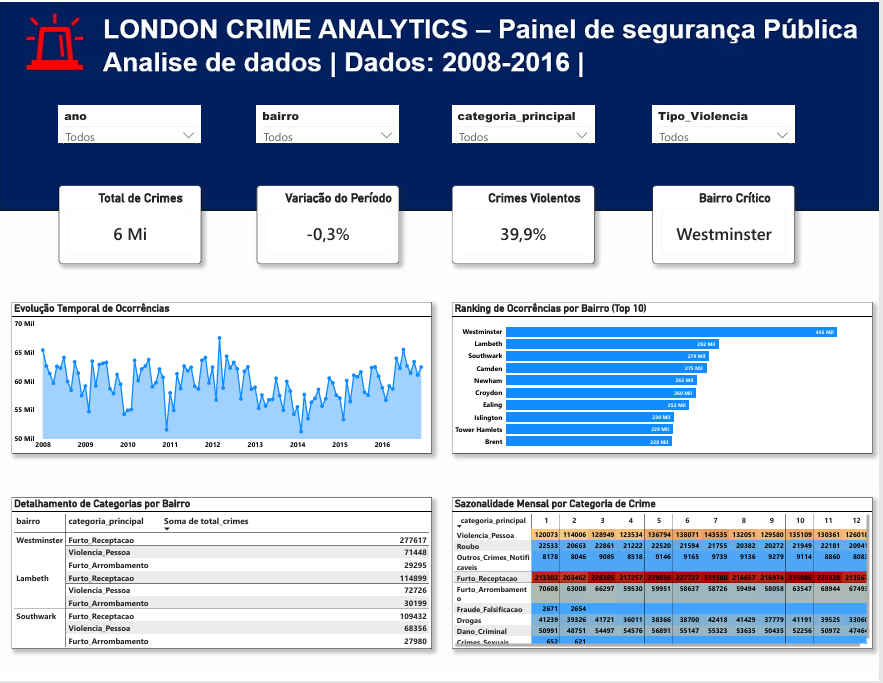

Layout of this report page (visuals, bound fields, positions):
{"tool":"powerbi","page":{"name":"Visão Geral","canvas":[2090,1600],"ordinal":0},"visuals":[{"type":"slicer","fields":{"Values":["ready.ano"]},"box":[142.5,245,337.5,90],"z":0},{"type":"slicer","fields":{"Values":["ready.bairro"]},"box":[612.5,245,337.5,90],"z":1000},{"type":"slicer","fields":{"Values":["ready.categoria_principal"]},"box":[1075,245,337.5,90],"z":2000},{"type":"slicer","fields":{"Values":["ready.Tipo_Violencia"]},"box":[1552.5,245,337.5,90],"z":3000},{"type":"lineChart","title":"Evolução Temporal de Ocorrências","fields":{"Category":["ready.data_crime.Variation.Hierarquia de datas.Ano","ready.data_crime.Variation.Hierarquia de datas.Mês"],"Y":["Sum(ready.total_crimes)"]},"box":[30,712.5,997.5,360],"z":4000},{"type":"barChart","title":"Ranking de Ocorrências por Bairro (Top 10)","fields":{"Y":["Sum(ready.total_crimes)"],"Category":["ready.bairro"]},"box":[1075,712.5,997.5,360],"z":5000},{"type":"pivotTable","title":"Detalhamento de Categorias por Bairro","fields":{"Rows":["ready.bairro","ready.categoria_principal"],"Values":["Sum(ready.total_crimes)"]},"box":[30,1175,997.5,360],"z":6000},{"type":"pivotTable","title":"Sazonalidade Mensal por Categoria de Crime","fields":{"Columns":["ready.mes"],"Rows":["ready.categoria_principal"],"Values":["Sum(ready.total_crimes)"]},"box":[1075,1175,997.5,360],"z":7000},{"type":"cardVisual","title":"📊 Total de Crimes","fields":{"Data":["Sum(ready.total_crimes)"]},"box":[142.5,435,337.5,185],"z":8000},{"type":"cardVisual","title":"📉 Variação do Período","fields":{"Data":["ready.Variacao_Anual_Crime1"]},"box":[612.5,435,337.5,185],"z":9000},{"type":"cardVisual","title":"🔴 Crimes Violentos","fields":{"Data":["ready.Pct_Crimes_Violentos"]},"box":[1075,435,337.5,185],"z":10000},{"type":"cardVisual","title":"🏙️ Bairro Crítico","fields":{"Data":["ready.Bairro_Critico"]},"box":[1552.5,435,337.5,185],"z":11000}]}

Visuals, with their boxes in screenshot pixels (x1, y1, x2, y2), scaled from the page's 2090x1600 canvas onto the 883x683 screenshot:
slicer - ready.ano: x1=60 y1=105 x2=203 y2=143
slicer - ready.bairro: x1=259 y1=105 x2=401 y2=143
slicer - ready.categoria_principal: x1=454 y1=105 x2=597 y2=143
slicer - ready.Tipo_Violencia: x1=656 y1=105 x2=799 y2=143
"Evolução Temporal de Ocorrências" lineChart: x1=13 y1=304 x2=434 y2=458
"Ranking de Ocorrências por Bairro (Top 10)" barChart: x1=454 y1=304 x2=876 y2=458
"Detalhamento de Categorias por Bairro" pivotTable: x1=13 y1=502 x2=434 y2=655
"Sazonalidade Mensal por Categoria de Crime" pivotTable: x1=454 y1=502 x2=876 y2=655
"📊 Total de Crimes" cardVisual: x1=60 y1=186 x2=203 y2=265
"📉 Variação do Período" cardVisual: x1=259 y1=186 x2=401 y2=265
"🔴 Crimes Violentos" cardVisual: x1=454 y1=186 x2=597 y2=265
"🏙️ Bairro Crítico" cardVisual: x1=656 y1=186 x2=799 y2=265
